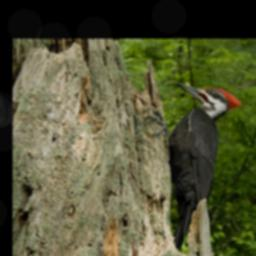Woodpecker: (144, 82, 243, 253)
